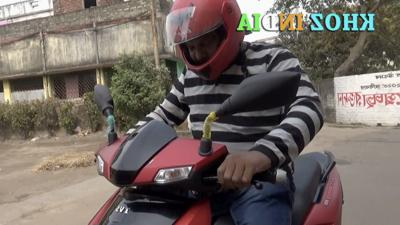With Helmet: (162, 2, 242, 82)
